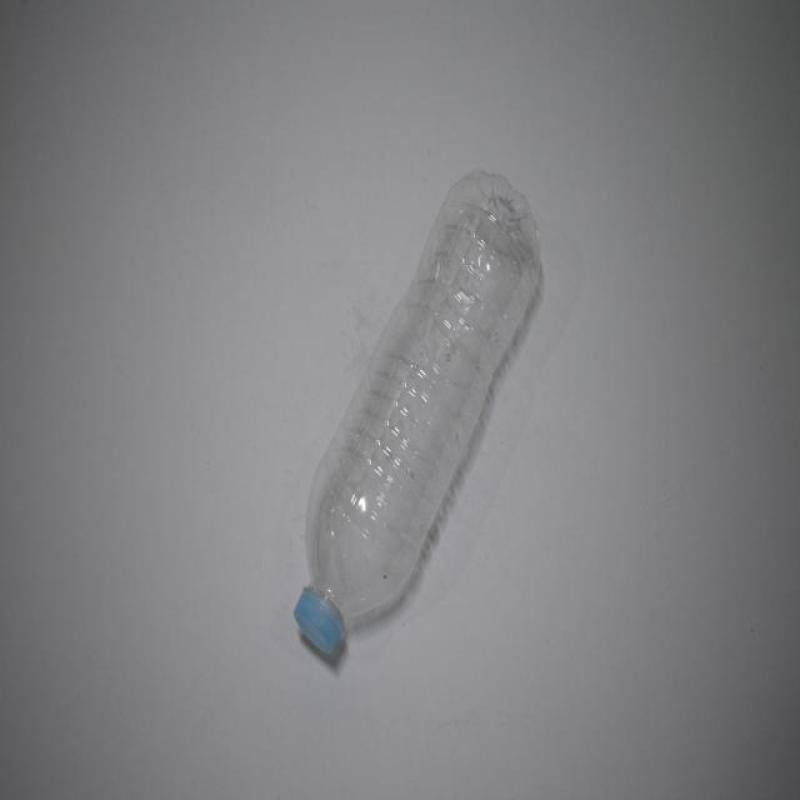botella: (290, 172, 541, 653)
